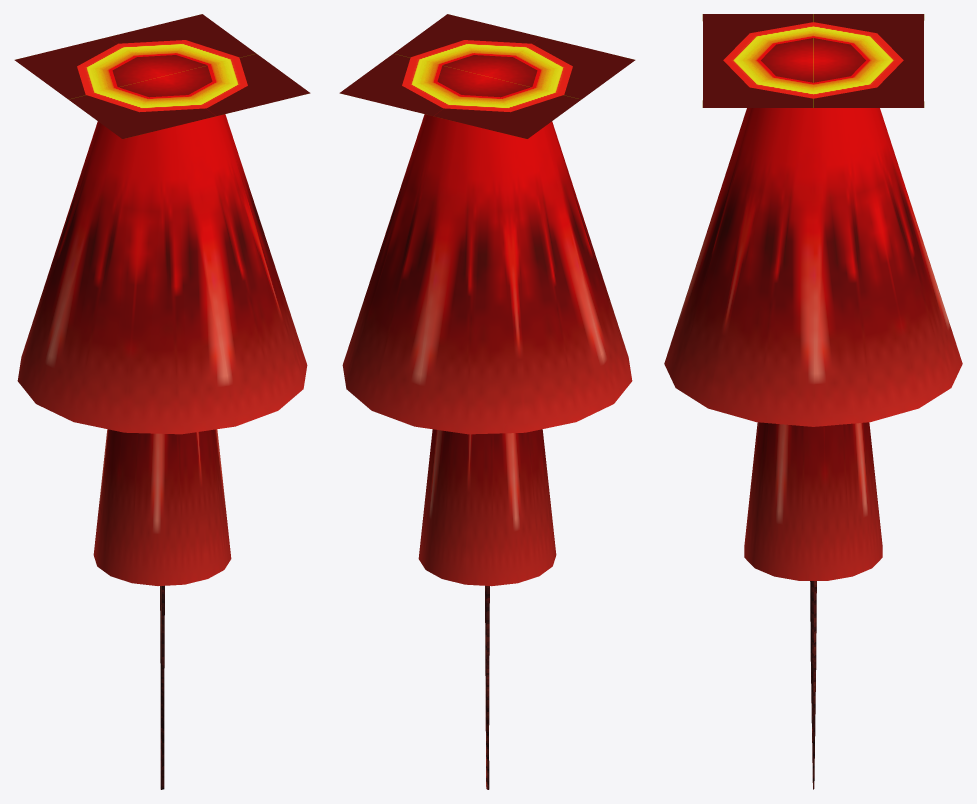
Rendered from Weapon-Lance of Longinus.obj.
3 renders of one model, left to right at view 1: azimuth 30°, elevation 25°; view 2: azimuth 150°, elevation 25°; view 3: azimuth 270°, elevation 25°, orthographic. The views are drawn at different scales.
Visible parts, largest first — view 1: Weapon-Lance_of_Longinus; view 2: Weapon-Lance_of_Longinus; view 3: Weapon-Lance_of_Longinus.
Boxes of the visible parts, x1,y1,x2,y2 form: Weapon-Lance_of_Longinus: (14,14,310,789); Weapon-Lance_of_Longinus: (339,14,635,789); Weapon-Lance_of_Longinus: (664,14,962,789).
Bounding box in the file's own units: 13.69 × 36.88 × 13.69.
2 materials, 2 textured.
